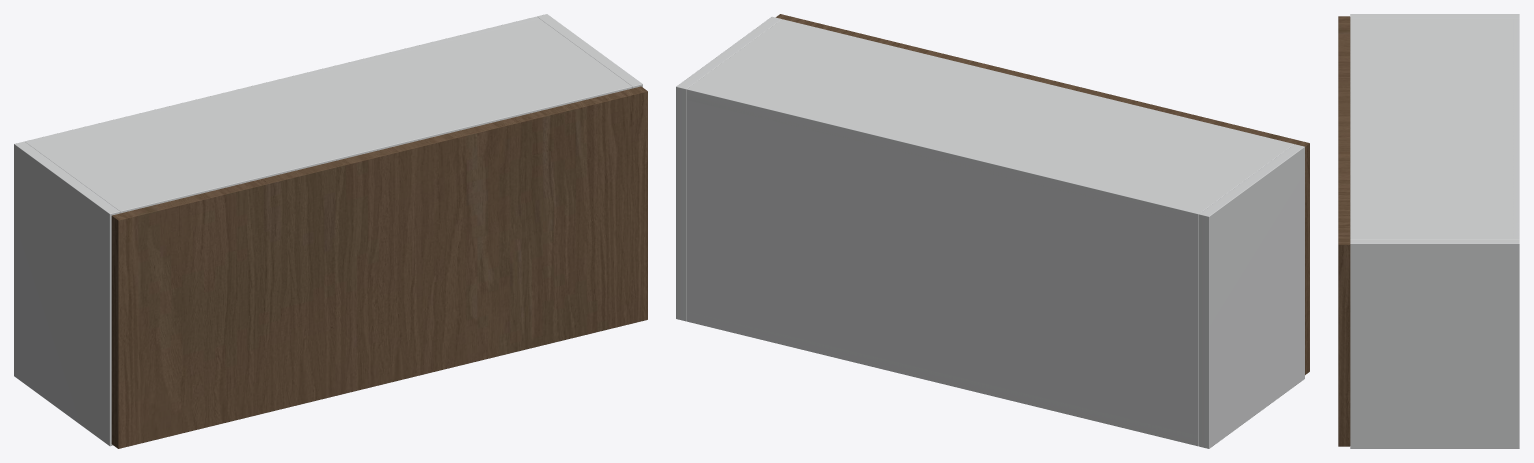
Rendered from oppein-ply-mso-wsl3615.glb.
3 views of the same model, side by side, from view 1: azimuth 30°, elevation 25°; view 2: azimuth 150°, elevation 25°; view 3: azimuth 270°, elevation 25° (orthographic). The views are drawn at different scales.
Visible parts, largest first — view 1: Door, Cabinet top, Cabinet side, Cabinet back, Cabinet side.001; view 2: Cabinet back, Cabinet top, Cabinet side, Door, Cabinet side.001, Cabinet bottom; view 3: Cabinet top, Cabinet side.001, Door, Cabinet back, Cabinet side.
Boxes of the visible parts, <box> form: Door: <box>111,86,647,448</box>; Cabinet top: <box>25,16,632,213</box>; Cabinet side: <box>14,141,120,446</box>; Cabinet back: <box>25,16,539,143</box>; Cabinet side.001: <box>537,14,642,88</box>; Cabinet back: <box>686,86,1201,446</box>; Cabinet top: <box>686,19,1293,224</box>; Cabinet side: <box>1199,144,1304,448</box>; Door: <box>776,14,1309,374</box>; Cabinet side.001: <box>676,16,781,321</box>; Cabinet bottom: <box>686,311,1198,445</box>; Cabinet top: <box>1350,18,1519,239</box>; Cabinet side.001: <box>1350,239,1519,448</box>; Door: <box>1338,16,1350,446</box>; Cabinet back: <box>1513,18,1519,239</box>; Cabinet side: <box>1350,14,1519,18</box>.
Bounding box in the file's own units: 0.9144 × 0.381 × 0.3048.
2 materials, 1 textured.
